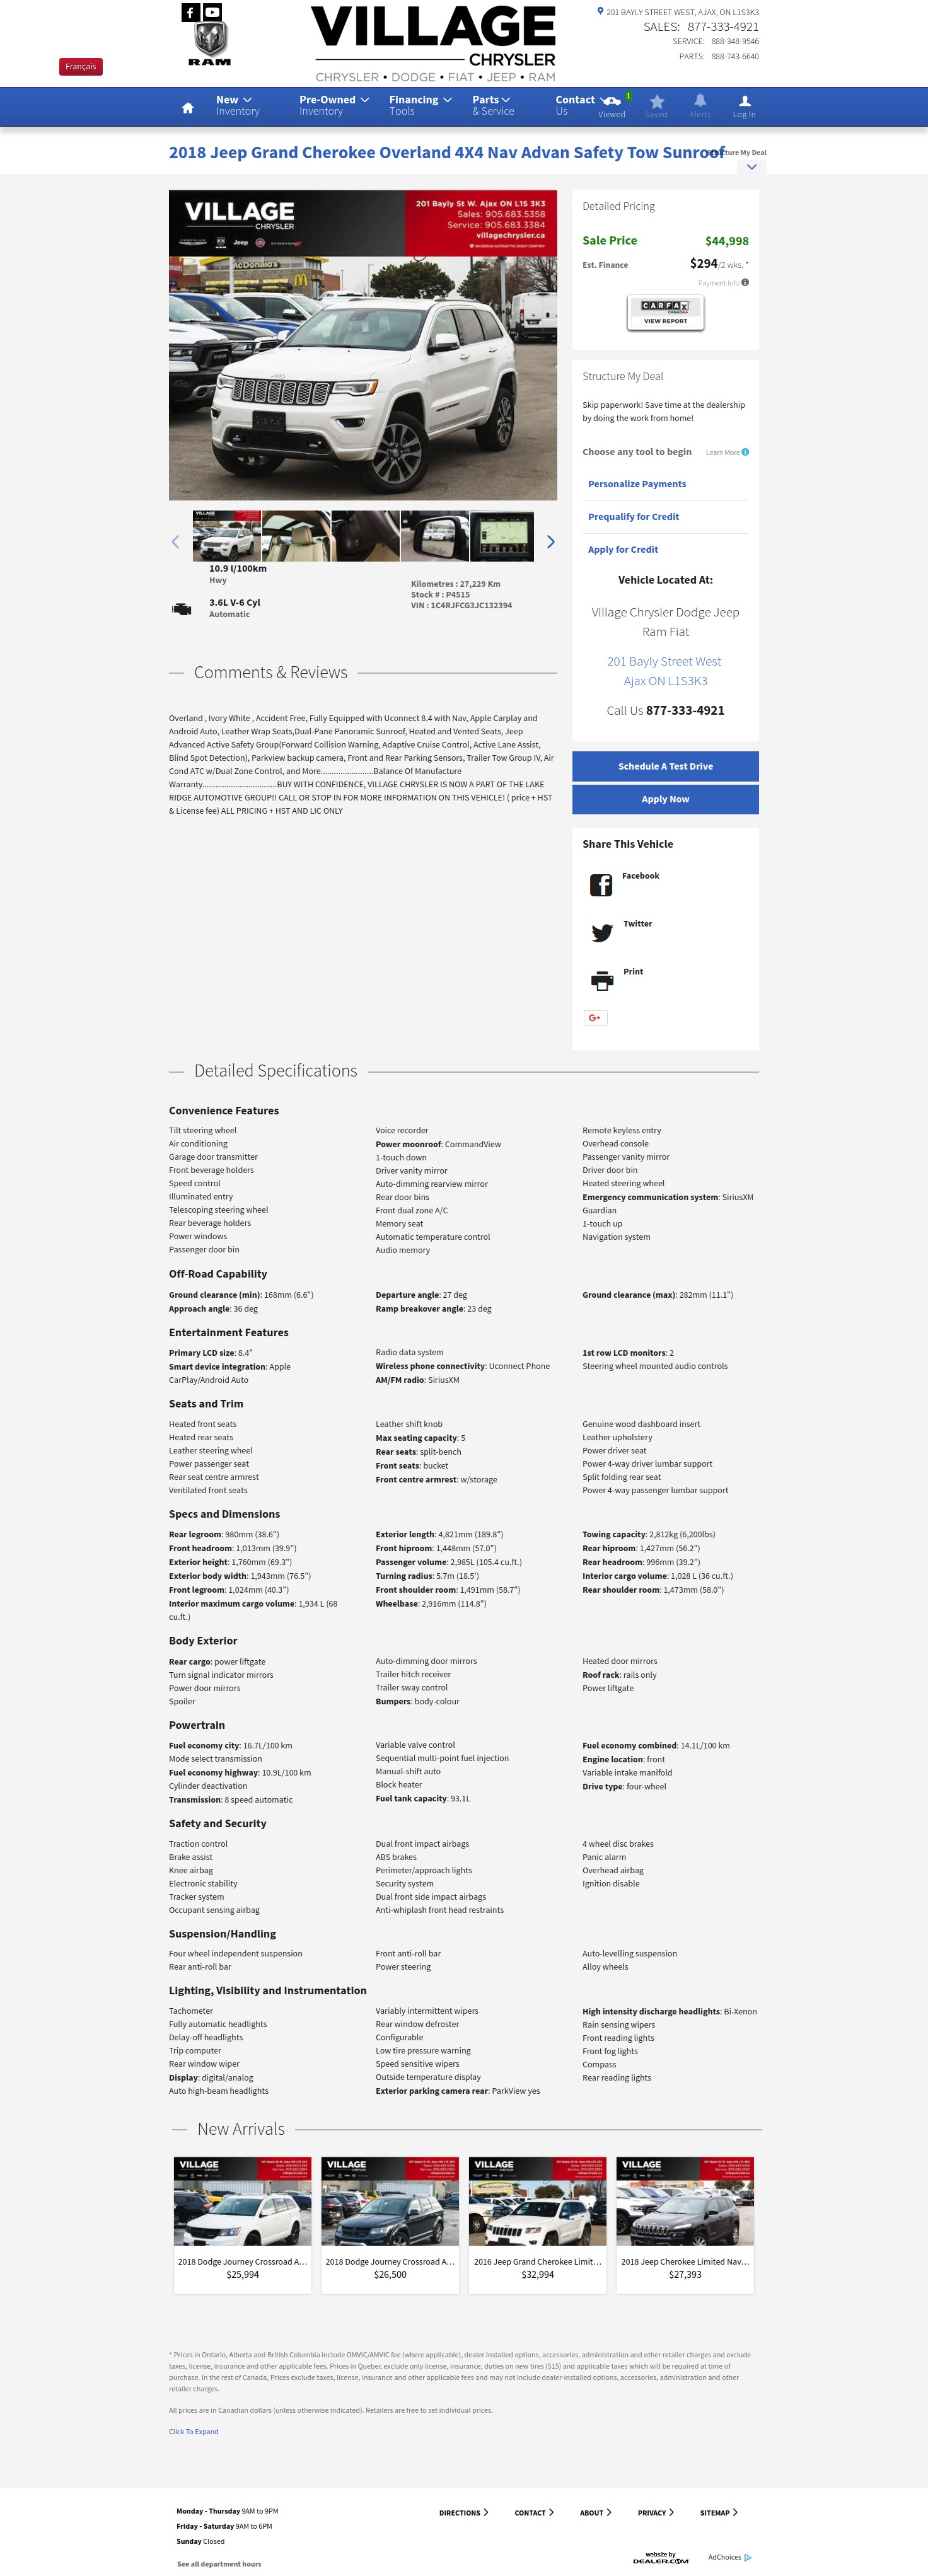car: (547, 536, 555, 550)
